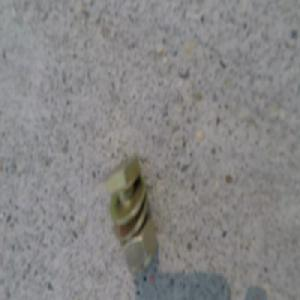BoltNutSet: (107, 157, 158, 268)
